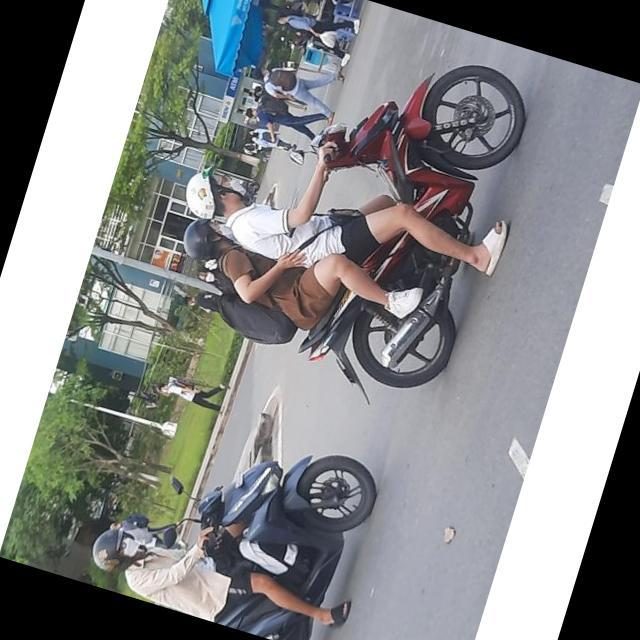WITH_HELMET: (172, 160, 252, 232), (87, 518, 148, 580), (177, 215, 225, 262)
